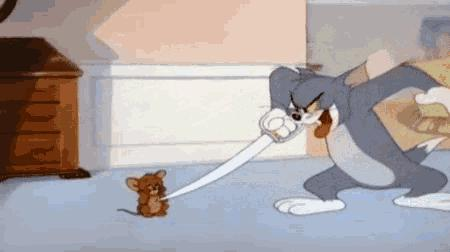jerry: (115, 169, 170, 219)
